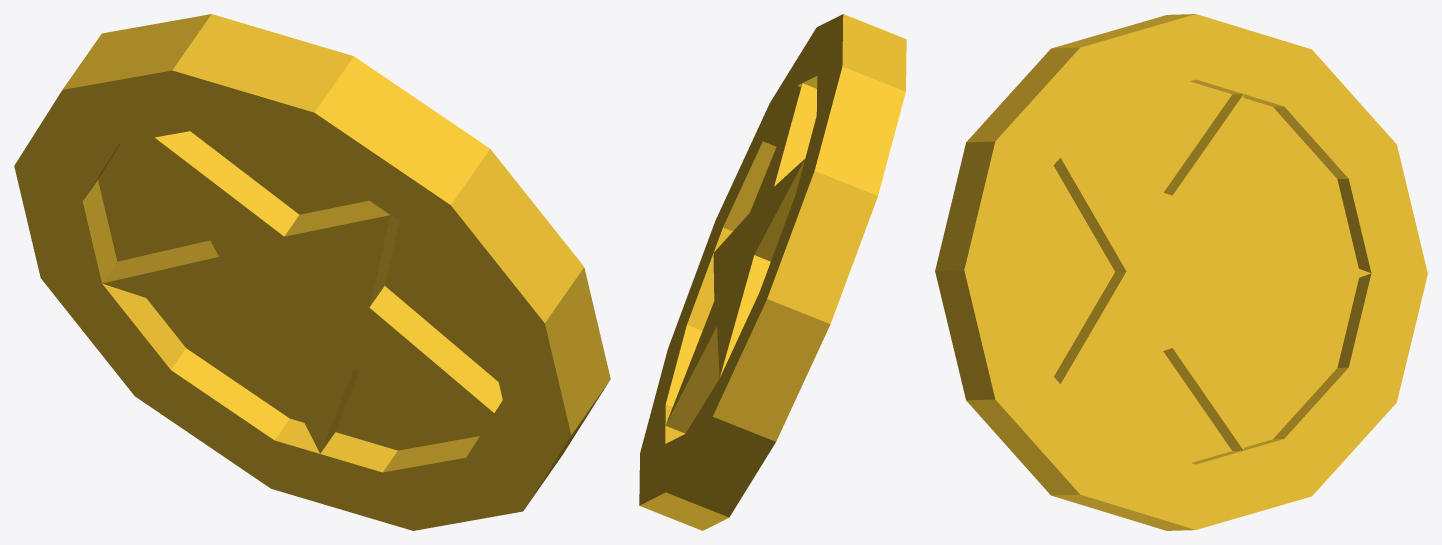
The model's file is CoinStar2.fbx.
3 views of the same model, side by side, from view 1: azimuth 30°, elevation 25°; view 2: azimuth 150°, elevation 25°; view 3: azimuth 270°, elevation 25° (orthographic). The views are drawn at different scales.
Visible parts, largest first — view 1: Cylinder.001; view 2: Cylinder.001; view 3: Cylinder.001.
Boxes of the visible parts, x1,y1,x2,y2 form: Cylinder.001: (14, 14, 610, 530); Cylinder.001: (639, 14, 906, 530); Cylinder.001: (935, 14, 1427, 530).
Bounding box in the file's own units: 136 × 190 × 191.
